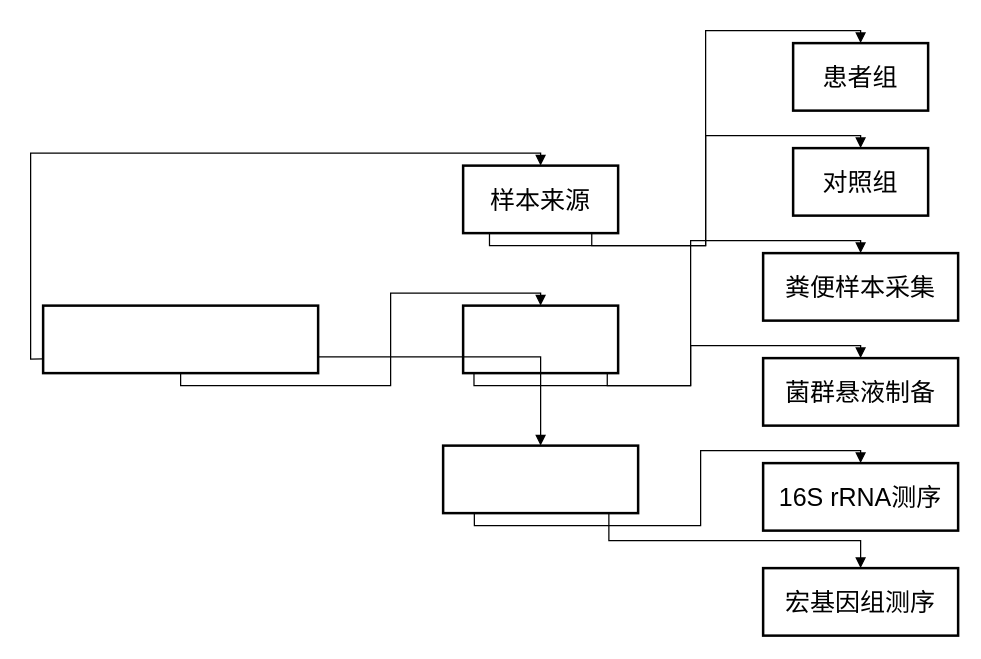
Image size: 981x659. Some labels were removed from this diagram. Each missing label, with the box of its shape:
样本处理: (461, 304, 619, 374)
菌群样本采集与预处理: (41, 304, 319, 374)
菌群特征分析: (441, 444, 639, 514)
